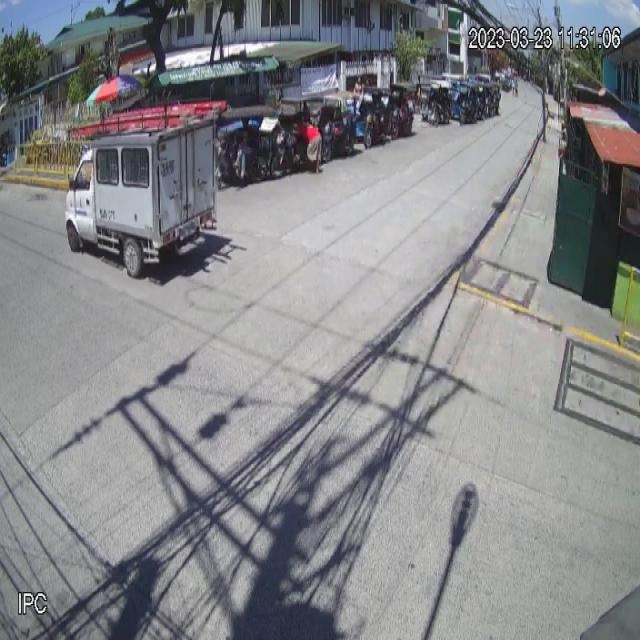Van: (64, 132, 218, 280)
